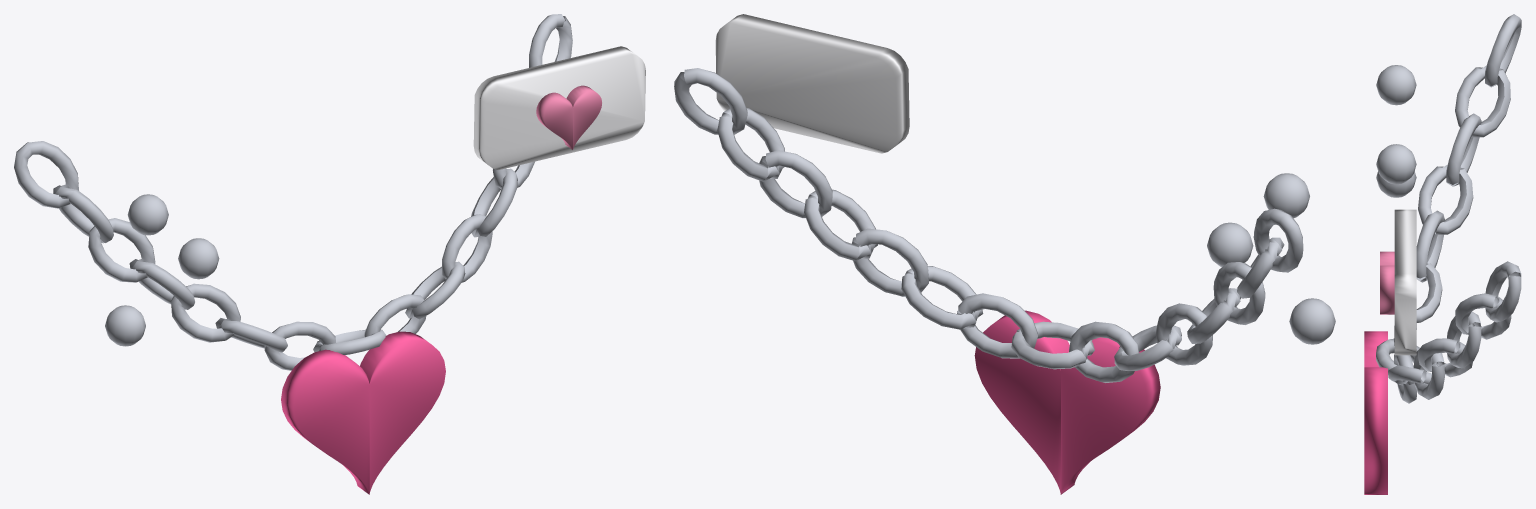
The model's file is pixel_chest_jewellery.glb.
3 views of the same model, side by side, from view 1: azimuth 30°, elevation 25°; view 2: azimuth 150°, elevation 25°; view 3: azimuth 270°, elevation 25° (orthographic). The views are drawn at different scales.
Parts seen in each view (by area): view 1: pixel_chest_jewellery; view 2: pixel_chest_jewellery; view 3: pixel_chest_jewellery.
Boxes of the visible parts, x1,y1,x2,y2 form: pixel_chest_jewellery: (14, 14, 645, 494); pixel_chest_jewellery: (674, 14, 1335, 494); pixel_chest_jewellery: (1364, 14, 1521, 494).
Bounding box in the file's own units: 0.3512 × 0.2129 × 0.0856.
